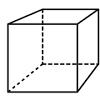cubos: (6, 5, 100, 94)
